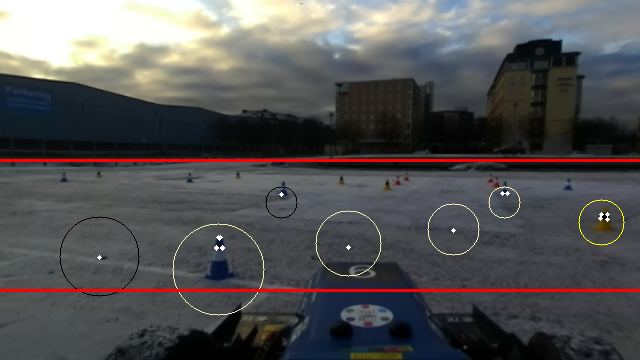blue: (199, 236, 236, 279), (561, 176, 575, 193), (276, 181, 289, 197), (498, 181, 509, 197), (58, 171, 70, 184), (184, 171, 194, 183)
yellow: (593, 207, 614, 231), (380, 179, 393, 193), (333, 175, 346, 186)
